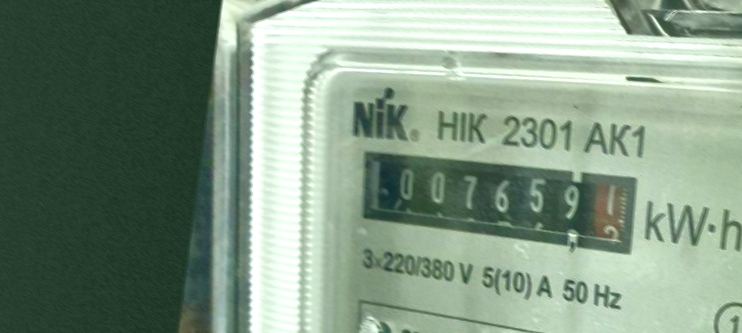0: (425, 168, 450, 210), (394, 166, 419, 206)
1: (598, 182, 622, 221)
5: (523, 176, 550, 218)
6: (489, 175, 516, 219)
7: (456, 172, 483, 213)
9: (558, 183, 584, 225)
screen: (346, 137, 647, 267)
